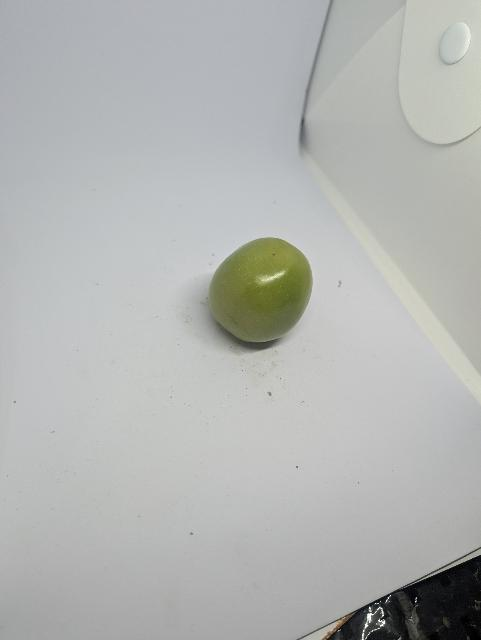green: (190, 218, 325, 358)
